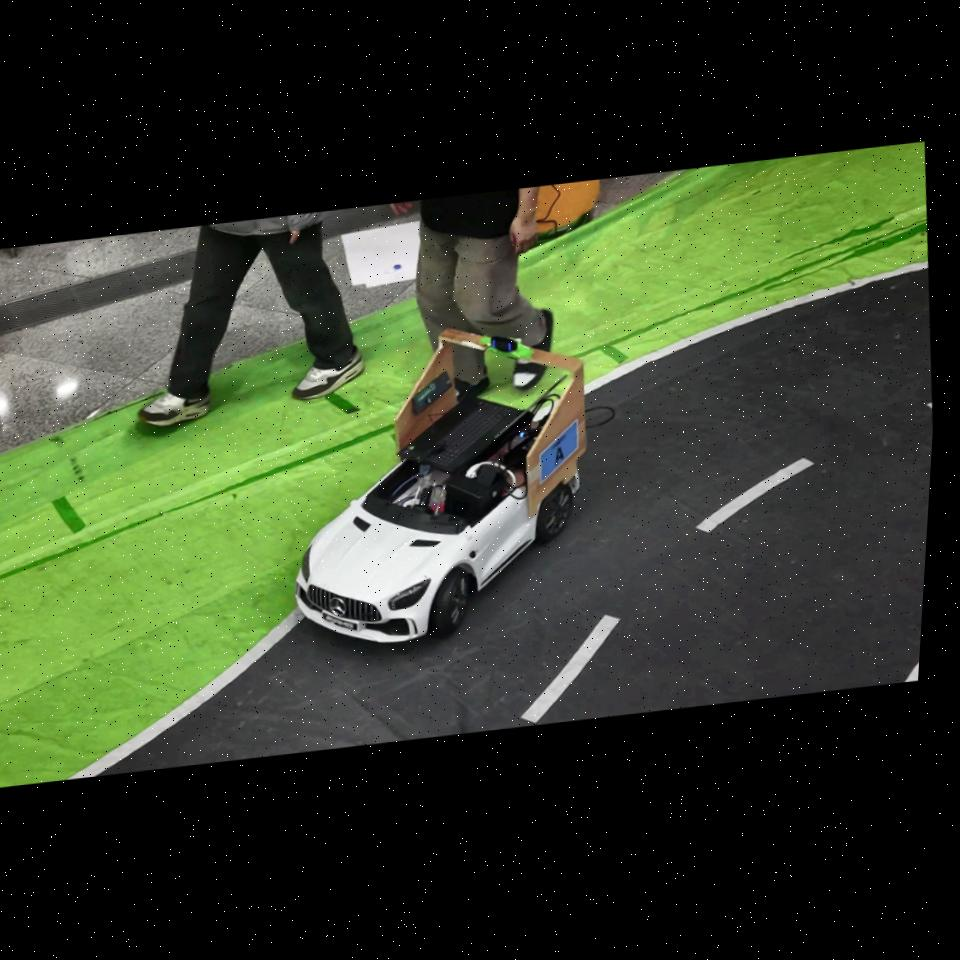broken_line: (521, 615, 619, 723), (697, 458, 814, 532), (928, 402, 932, 408)
